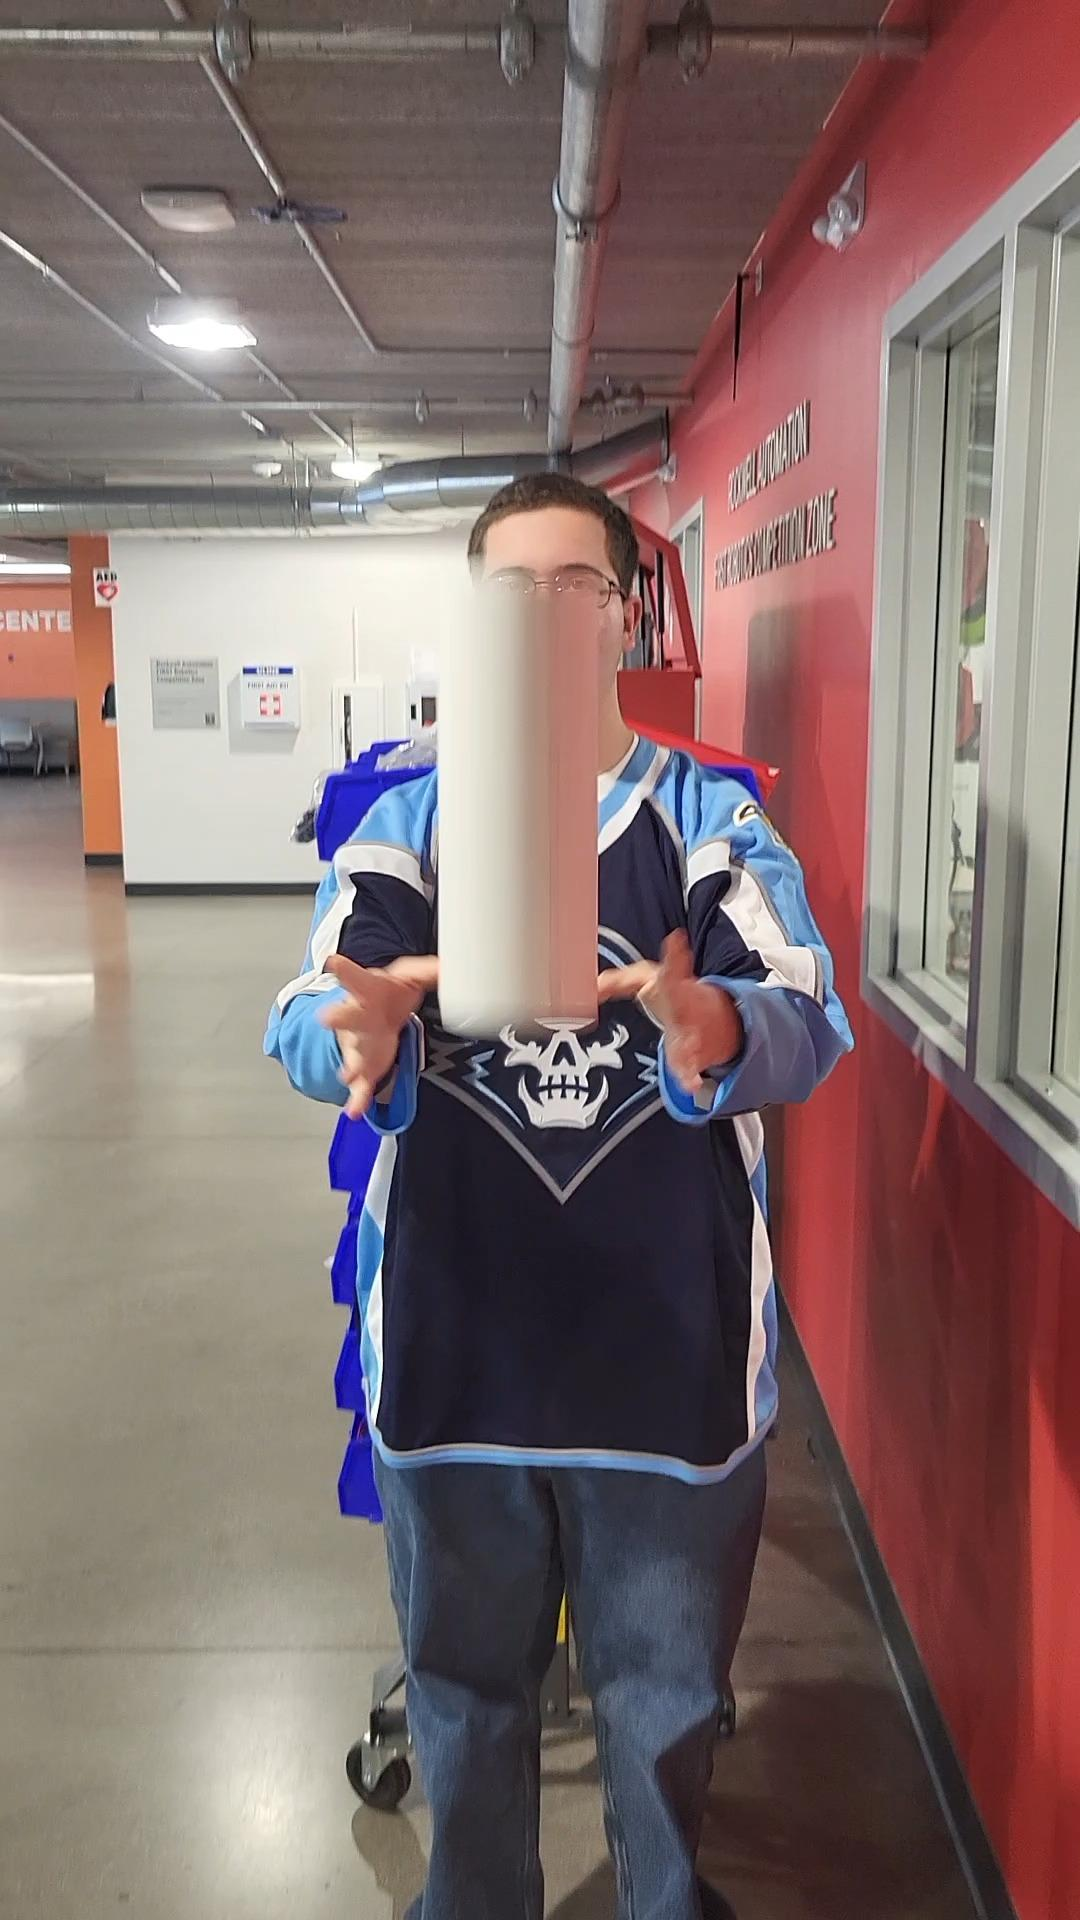coral: (427, 560, 611, 1050)
